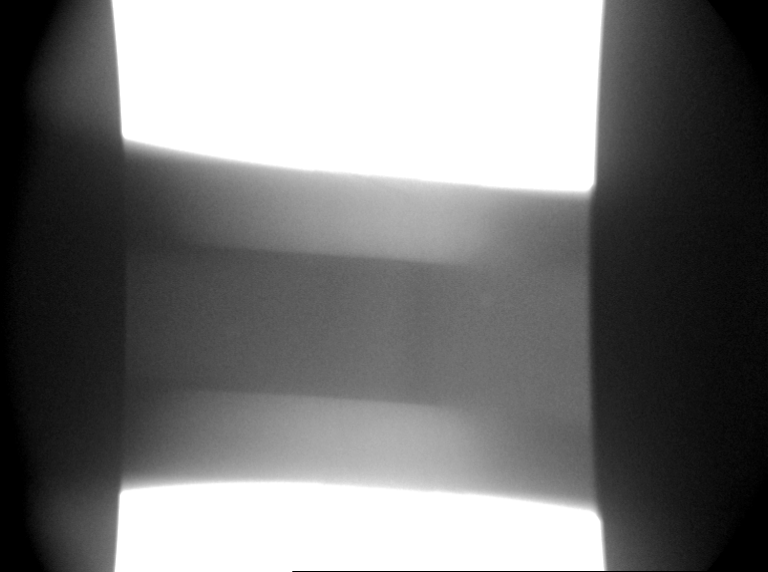defect: (213, 316, 242, 340)
